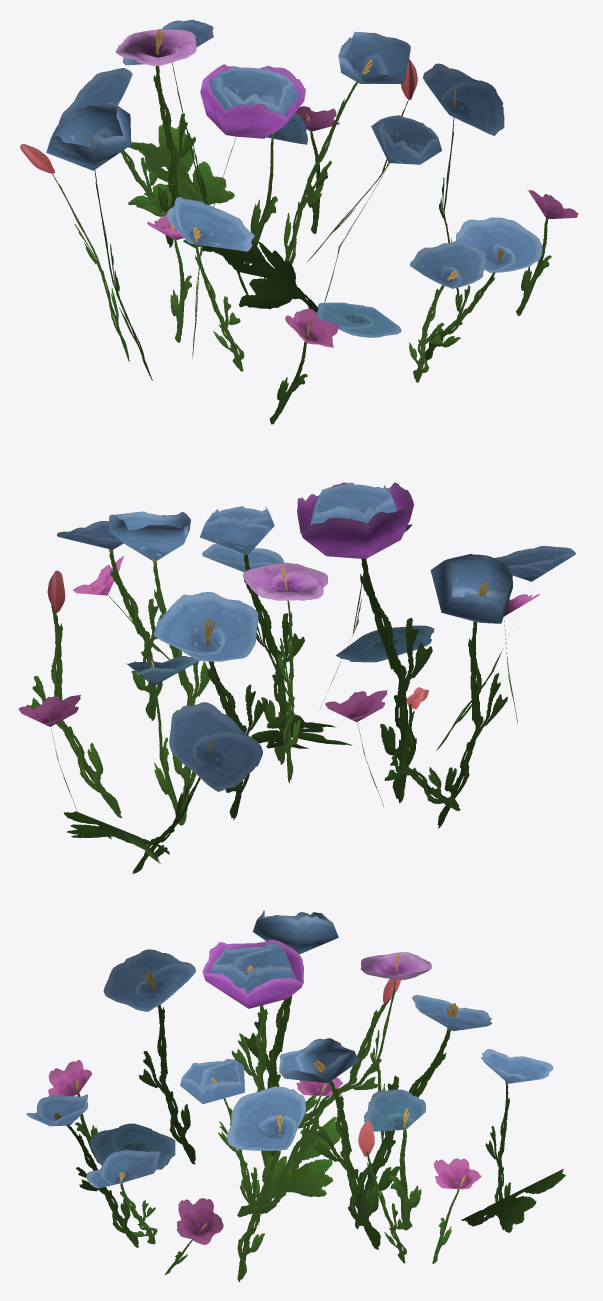
The model's file is fiori.fbx.
The picture shows the model from 3 angles, top to bottom: view 1: azimuth 30°, elevation 25°; view 2: azimuth 150°, elevation 25°; view 3: azimuth 270°, elevation 25°; orthographic projection. The views are drawn at different scales.
Visible parts, largest first — view 1: fiori; view 2: fiori; view 3: fiori.
Part boxes in pixels (<box>): fiori: <box>20,19,578,424</box>; fiori: <box>18,482,575,873</box>; fiori: <box>26,910,565,1281</box>.
Bounding box in the file's own units: 285 × 175 × 338.
